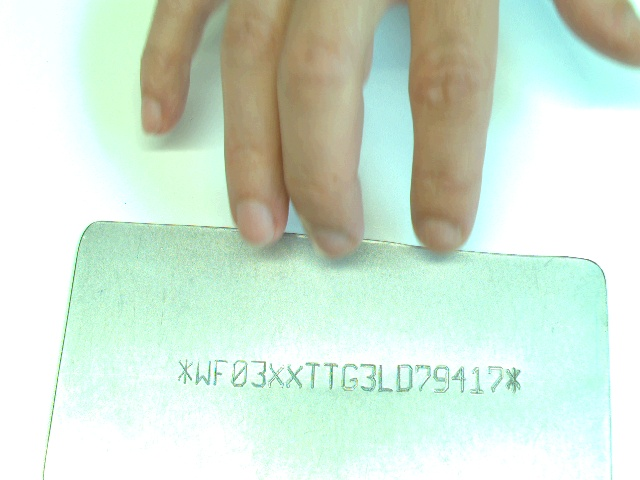0: (230, 359, 249, 389)
1: (468, 365, 486, 395)
3: (359, 362, 377, 393), (250, 358, 268, 388)
4: (451, 365, 468, 394)
7: (414, 363, 433, 394), (487, 364, 505, 396)
9: (433, 363, 450, 394)
d: (395, 362, 414, 393)
f: (213, 357, 229, 386)
g: (341, 362, 359, 392)
l: (377, 363, 394, 393)
t: (323, 360, 340, 390), (306, 358, 321, 390)
w: (194, 358, 212, 386)
x: (285, 360, 306, 390), (269, 359, 286, 388)
